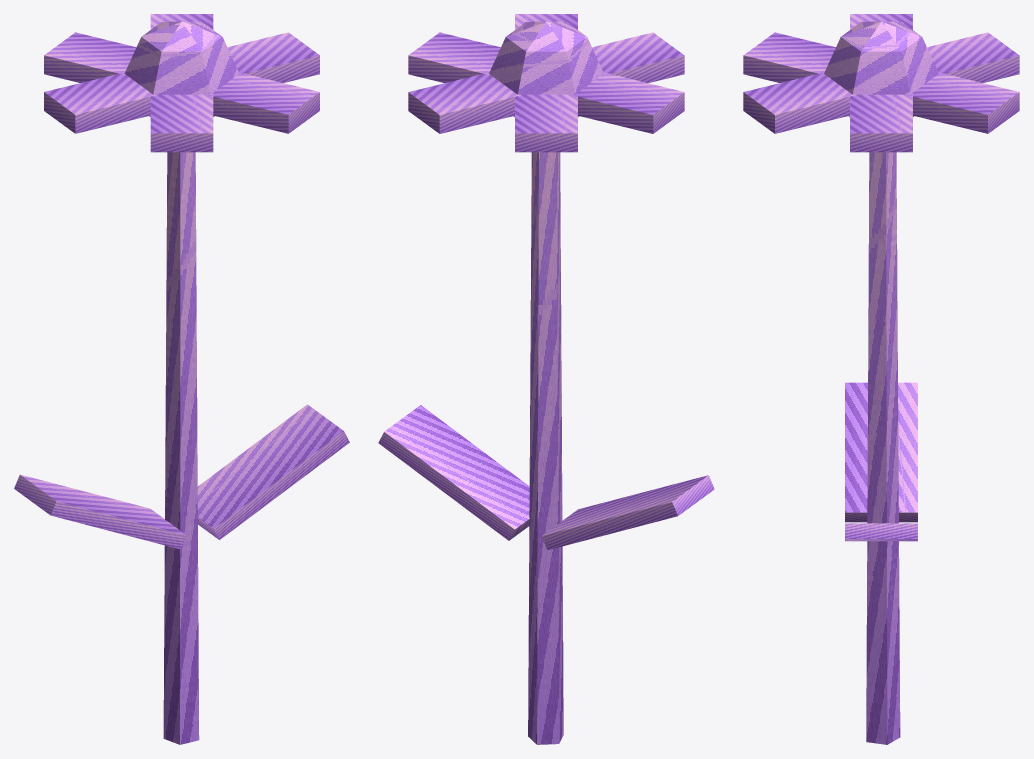
The model's file is orquidea_de_cristal.glb.
3 renders of one model, left to right at view 1: azimuth 30°, elevation 25°; view 2: azimuth 150°, elevation 25°; view 3: azimuth 270°, elevation 25°, orthographic.
Parts seen in each view (by area): view 1: orquidea_de_cristal; view 2: orquidea_de_cristal; view 3: orquidea_de_cristal.
Boxes of the visible parts, <box> form: orquidea_de_cristal: <box>14,14,349,744</box>; orquidea_de_cristal: <box>378,14,714,744</box>; orquidea_de_cristal: <box>743,14,1019,744</box>.
Bounding box in the file's own units: 0.3306 × 0.755 × 0.2638.
Materials: 1 (1 with a texture image).
